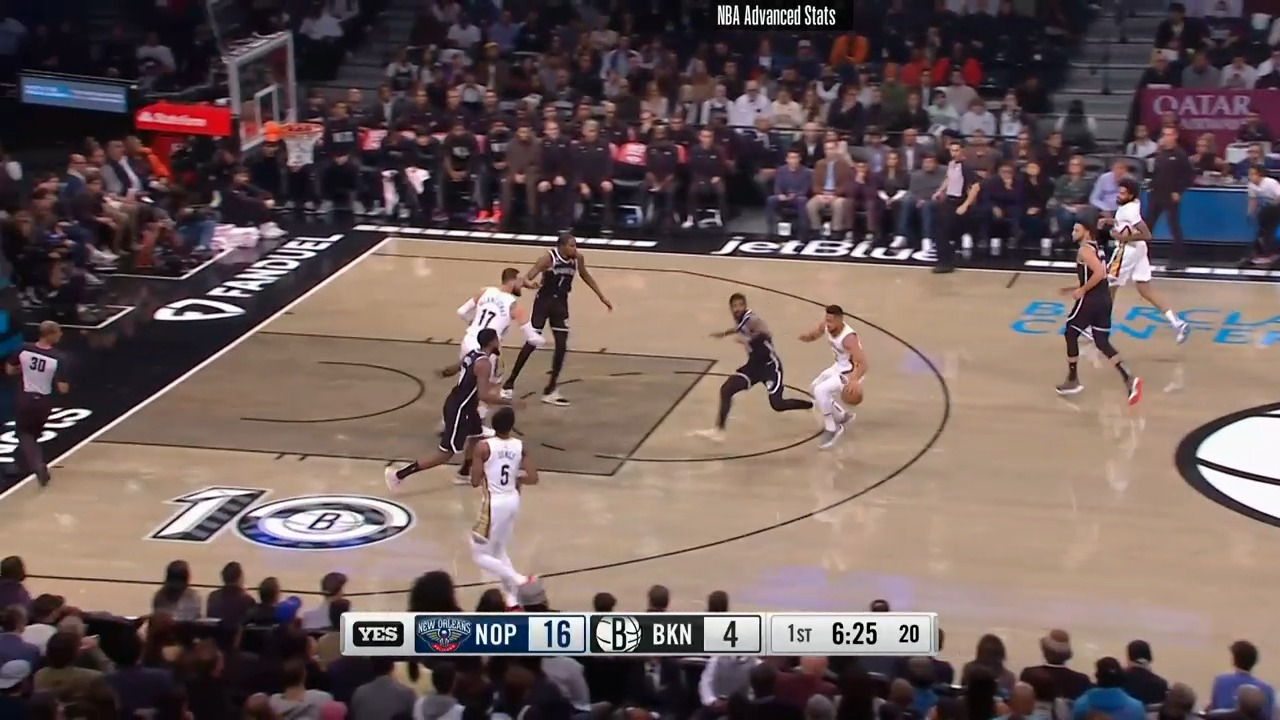net: (257, 111, 324, 170)
player: (389, 328, 513, 489), (502, 232, 618, 403), (450, 400, 545, 608), (1092, 185, 1190, 343), (703, 290, 806, 440), (1056, 216, 1137, 399), (427, 267, 532, 383), (795, 302, 875, 453)
referee: (1, 319, 72, 494)
